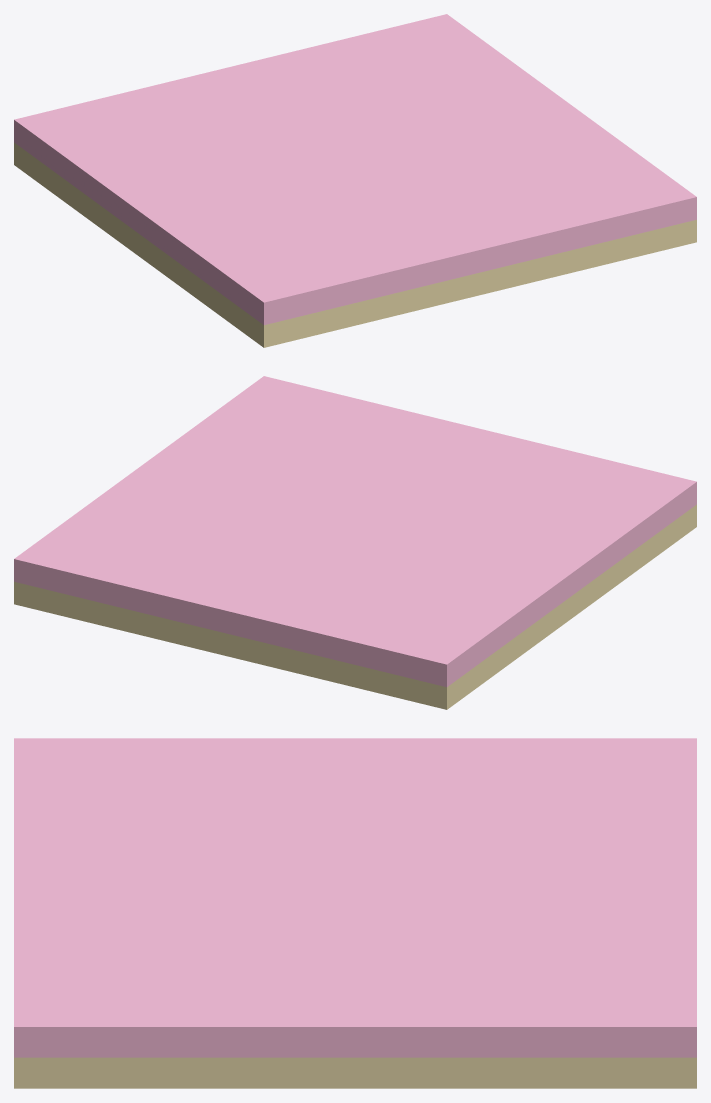
Rendered from CandylandEmpty.fbx.
The picture shows the model from 3 angles, top to bottom: view 1: azimuth 30°, elevation 25°; view 2: azimuth 150°, elevation 25°; view 3: azimuth 270°, elevation 25°; orthographic projection. The views are drawn at different scales.
Parts seen in each view (by area): view 1: CandylandEmpty; view 2: CandylandEmpty; view 3: CandylandEmpty.
Boxes of the visible parts, x1,y1,x2,y2 form: CandylandEmpty: (14, 14, 696, 347); CandylandEmpty: (14, 376, 696, 709); CandylandEmpty: (14, 738, 696, 1088).
Bounding box in the file's own units: 1 × 0.1 × 1.
